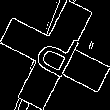P_SW: (27, 24, 83, 86)
